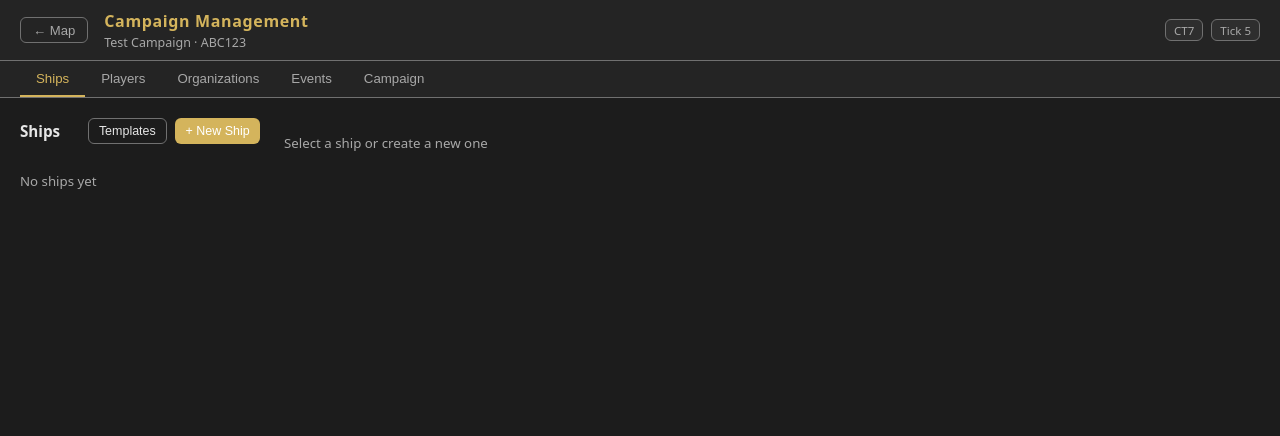
Scenario: RefereeView — Events grid › renders assigned events with Expire (active) and Delete actions
Click the tab with class "rtab" showing "Events" at [312, 79], box [275,61,348,97]
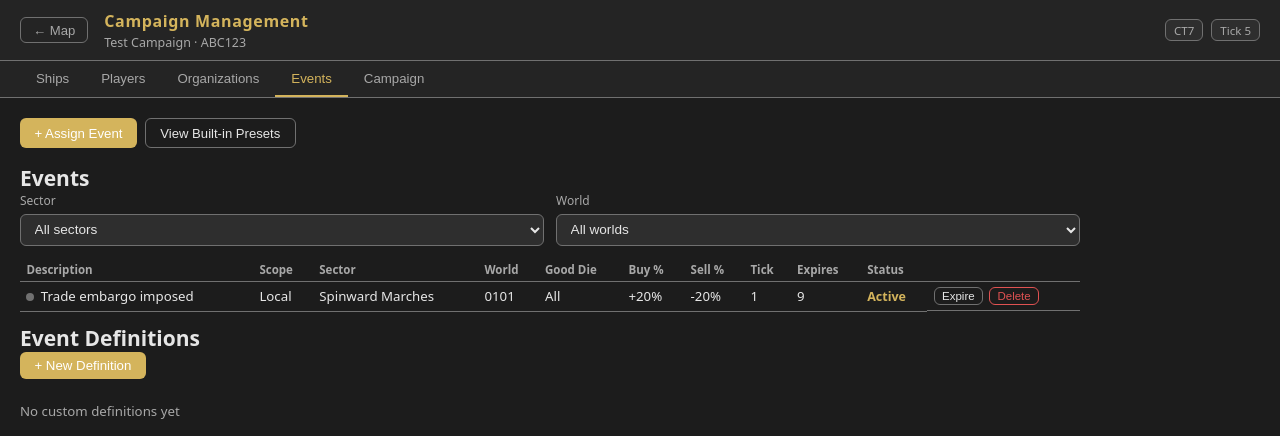
Expected: the text "Active" is shown, [867,288,906,305]
